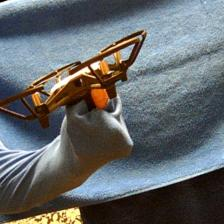drone: (0, 29, 146, 119)
